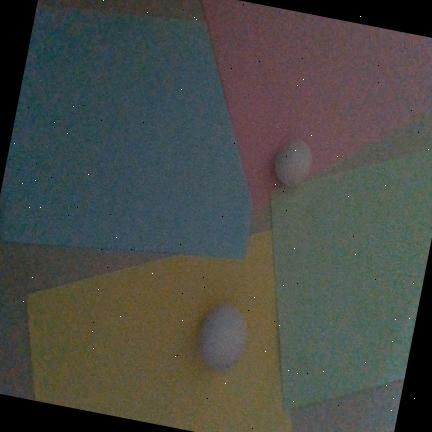Esfera: (198, 303, 248, 371), (275, 140, 313, 187)
